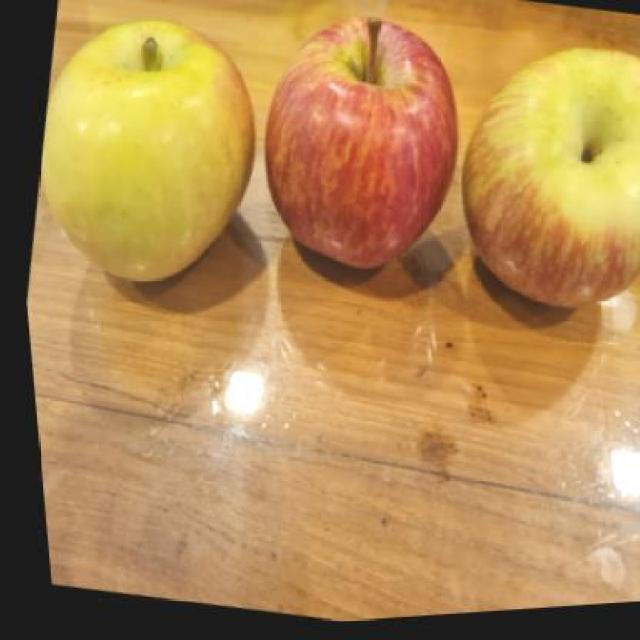Fresh Apple: (40, 15, 252, 260), (266, 31, 454, 277), (478, 55, 640, 288)
